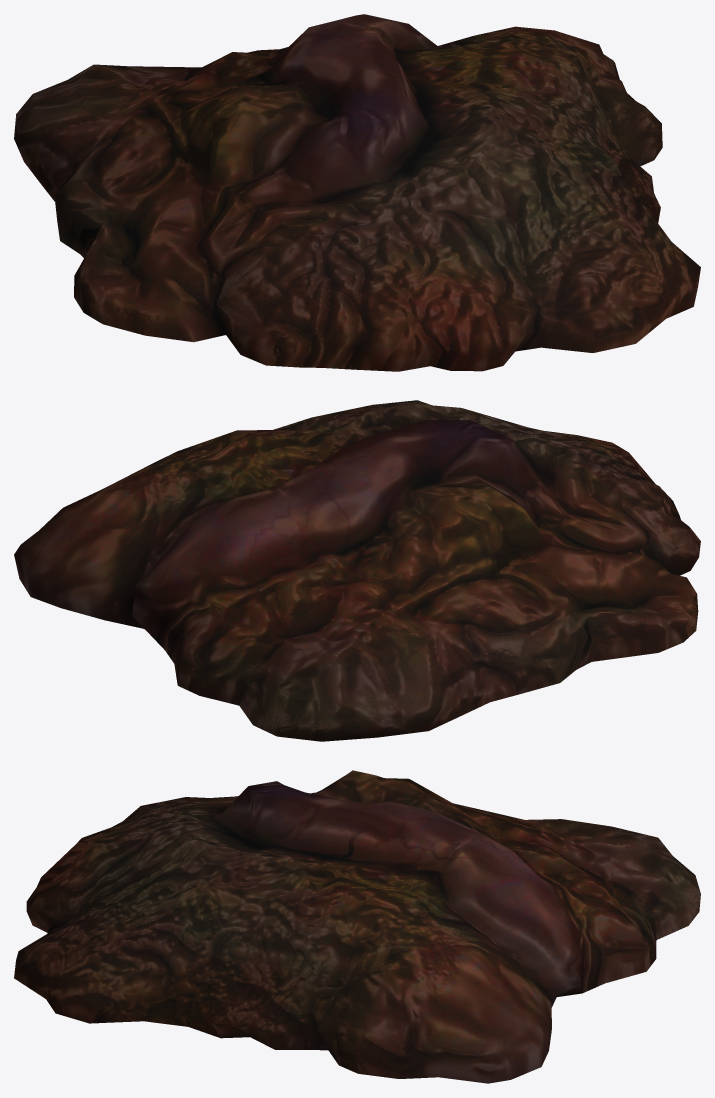
The model's file is Giblet_Guts.DAE.
3 renders of one model, top to bottom at view 1: azimuth 30°, elevation 25°; view 2: azimuth 150°, elevation 25°; view 3: azimuth 270°, elevation 25°, orthographic. The views are drawn at different scales.
Parts seen in each view (by area): view 1: Giblet_Guts; view 2: Giblet_Guts; view 3: Giblet_Guts.
Boxes of the visible parts, left/top/right/bottom form: Giblet_Guts: left=14, top=14, right=700, bottom=371; Giblet_Guts: left=14, top=400, right=700, bottom=741; Giblet_Guts: left=14, top=770, right=700, bottom=1083.
Bounding box in the file's own units: 40.23 × 42.97 × 9.76.
